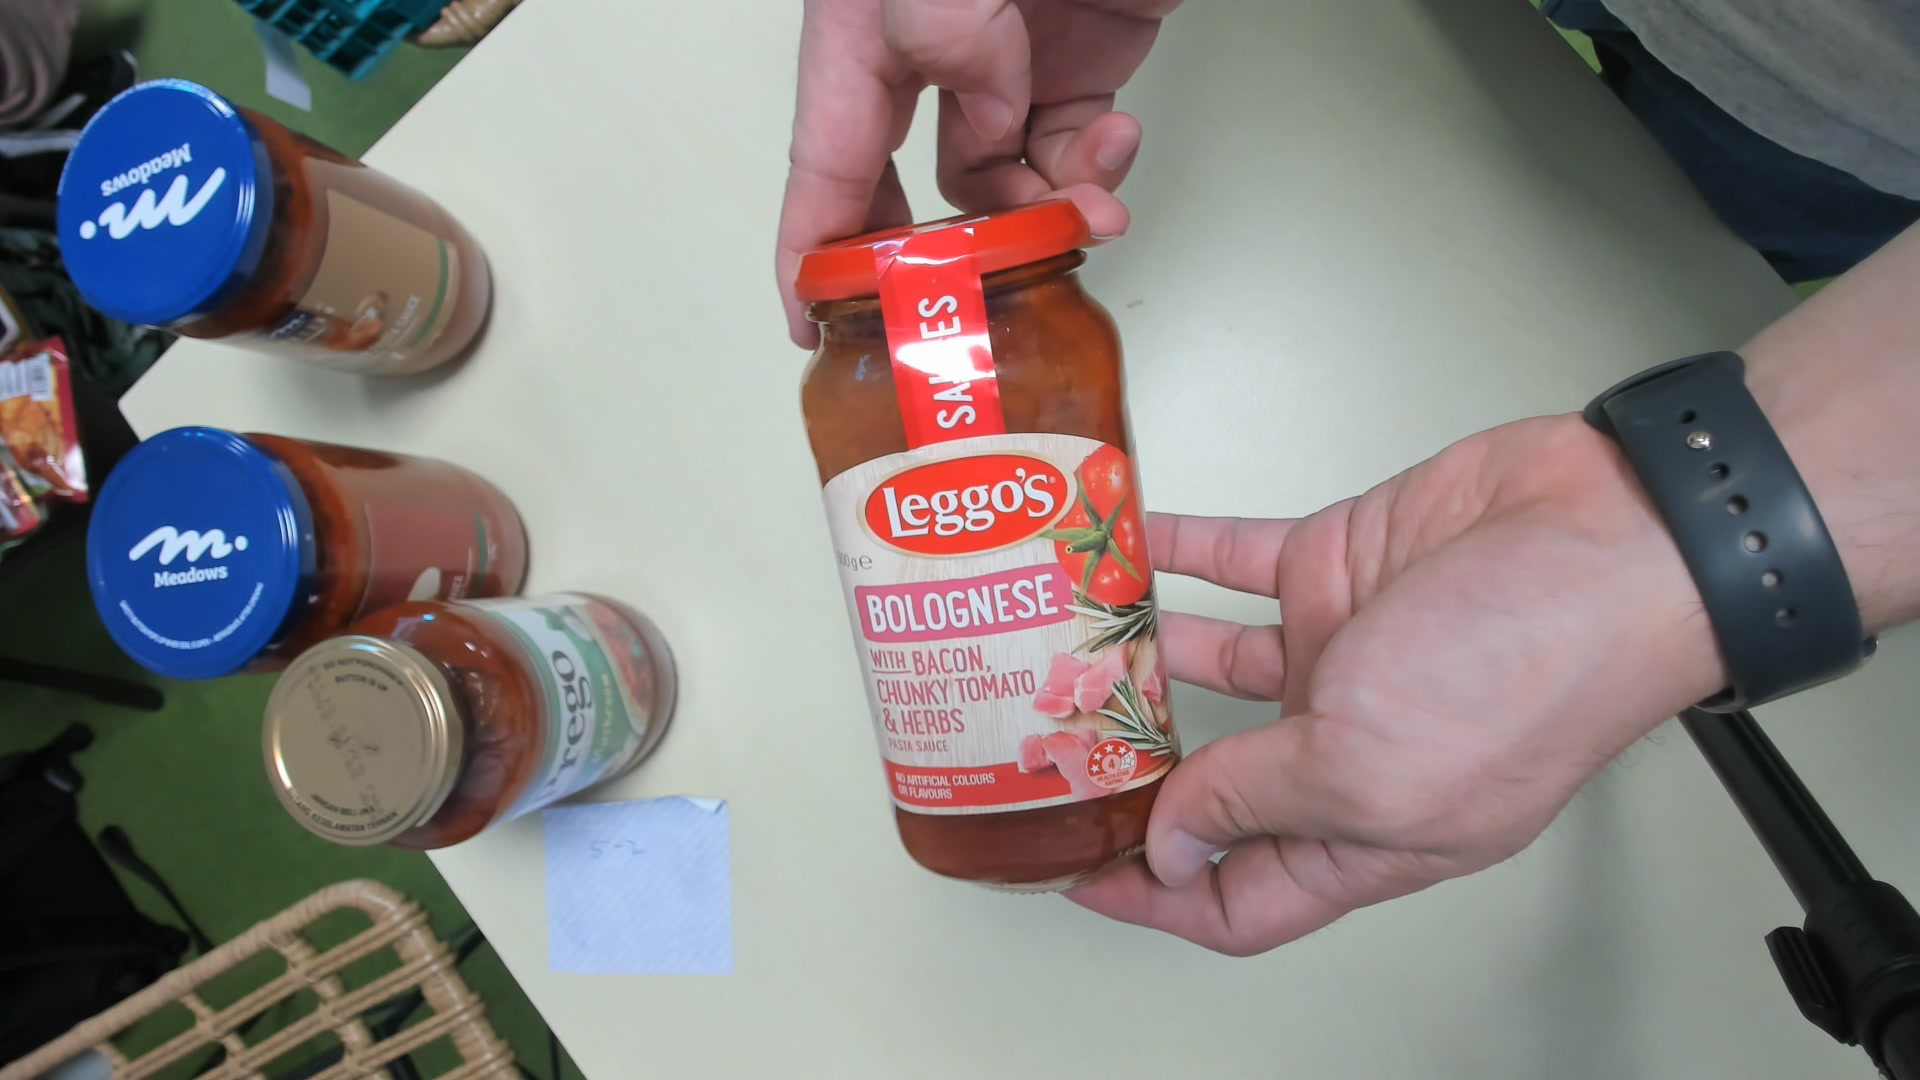PastaSauce_500-599g_Halal_NonHealthy: (793, 196, 1193, 889)
